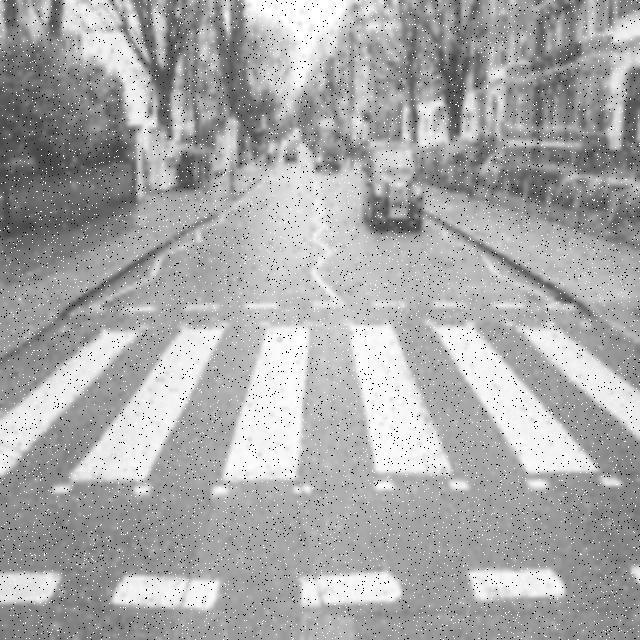crosswalk: (2, 325, 640, 485)
